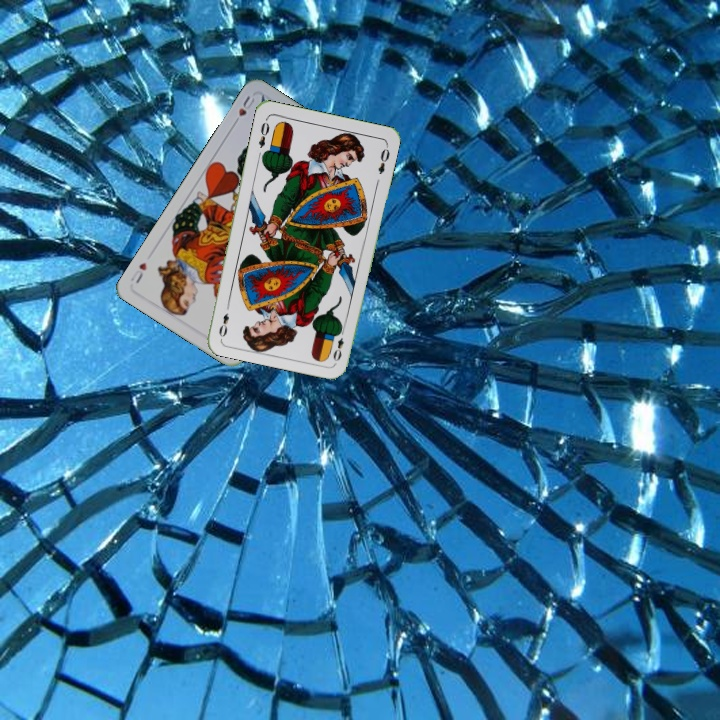EO: (329, 324, 347, 364), (254, 115, 272, 151)
HU: (229, 91, 257, 128)
